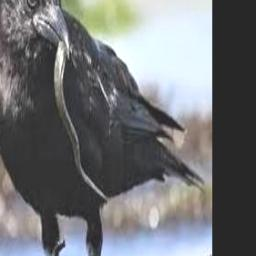Crow: (0, 0, 207, 256)
